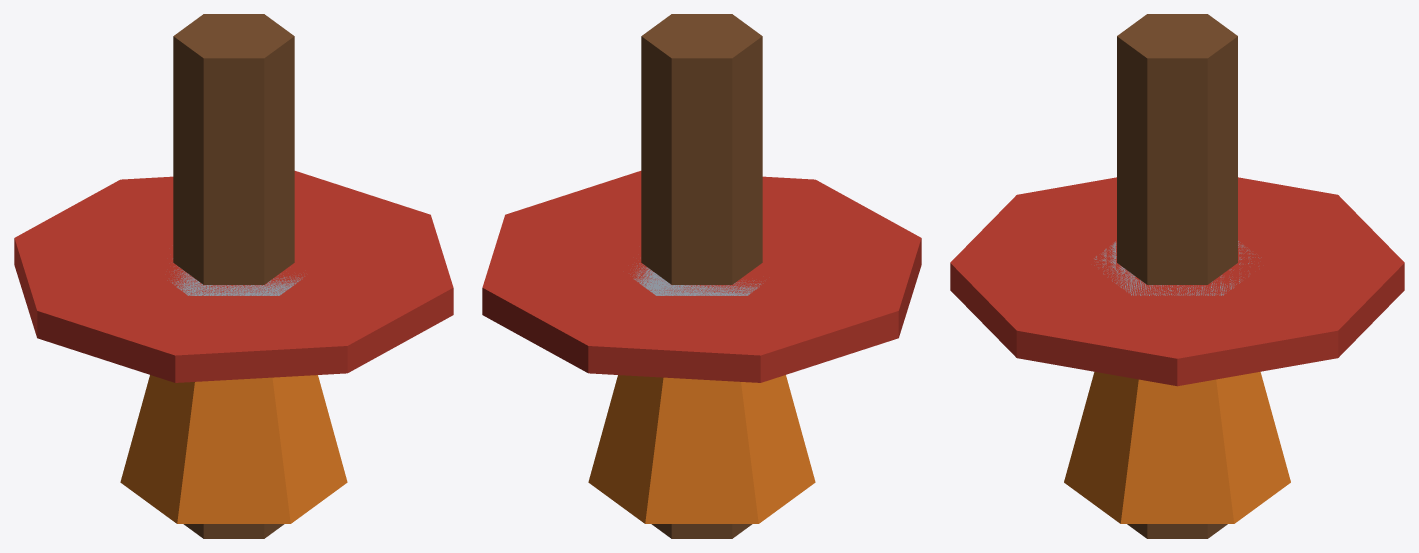
Rendered from prop_campfire.glb.
3 renders of one model, left to right at view 1: azimuth 30°, elevation 25°; view 2: azimuth 150°, elevation 25°; view 3: azimuth 270°, elevation 25°, orthographic.
Parts seen in each view (by area): view 1: ember, log_0, flame, stone_0; view 2: ember, log_0, flame, stone_0; view 3: ember, log_0, flame, stone_0.
Boxes of the visible parts, left/top/right/bottom form: ember: left=14, top=171, right=453, bottom=382; log_0: left=173, top=14, right=294, bottom=538; flame: left=120, top=375, right=347, bottom=523; stone_0: left=167, top=265, right=304, bottom=295; ember: left=482, top=171, right=921, bottom=382; log_0: left=641, top=14, right=762, bottom=538; flame: left=588, top=375, right=815, bottom=523; stone_0: left=630, top=263, right=763, bottom=295; ember: left=950, top=177, right=1404, bottom=386; log_0: left=1117, top=14, right=1237, bottom=538; flame: left=1064, top=371, right=1290, bottom=523; stone_0: left=1094, top=241, right=1261, bottom=295.
Size of the model in its own units: 0.6 by 0.7 by 0.6.
